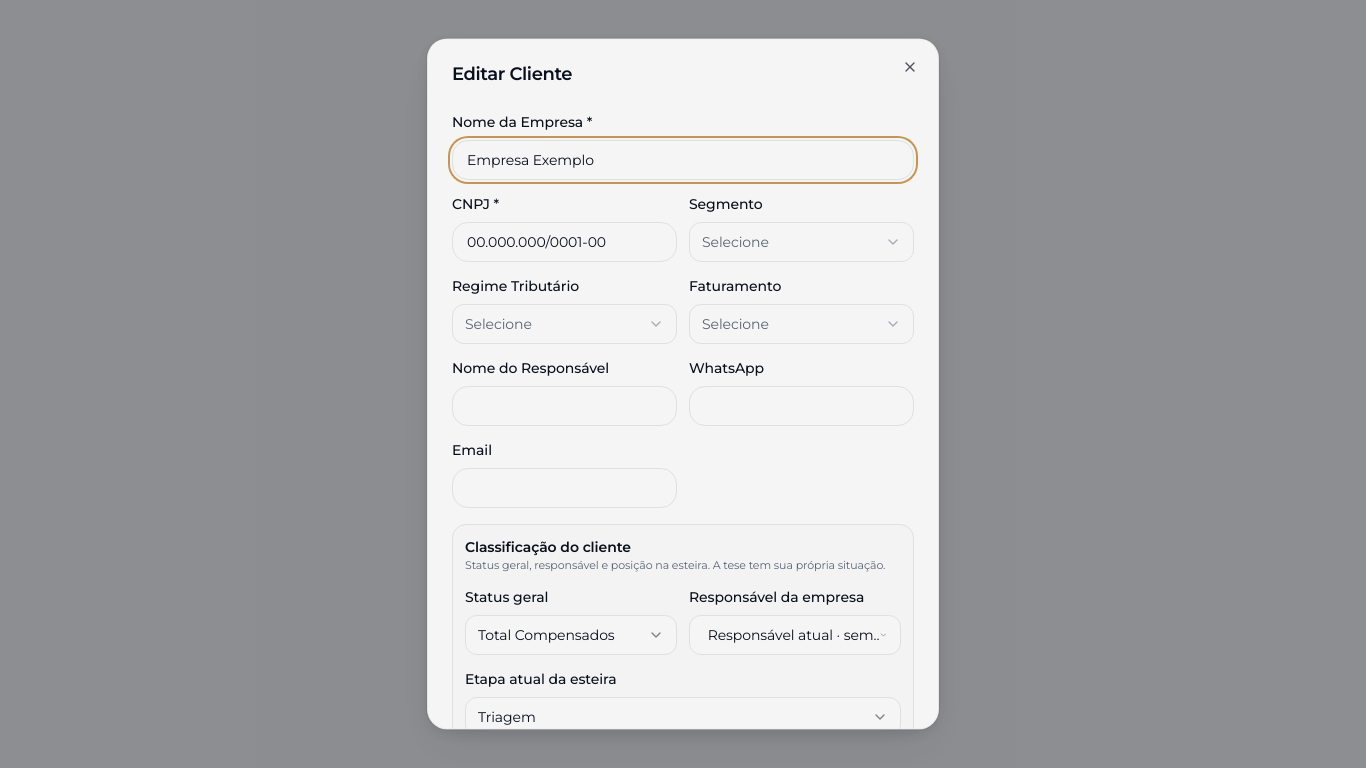
Test case: lista de responsáveis no Editar Cliente › preserva o responsável já gravado que hoje não é elegível
Click the dropdown named "Responsável da empresa": x=795, y=635 [689,615,901,655]
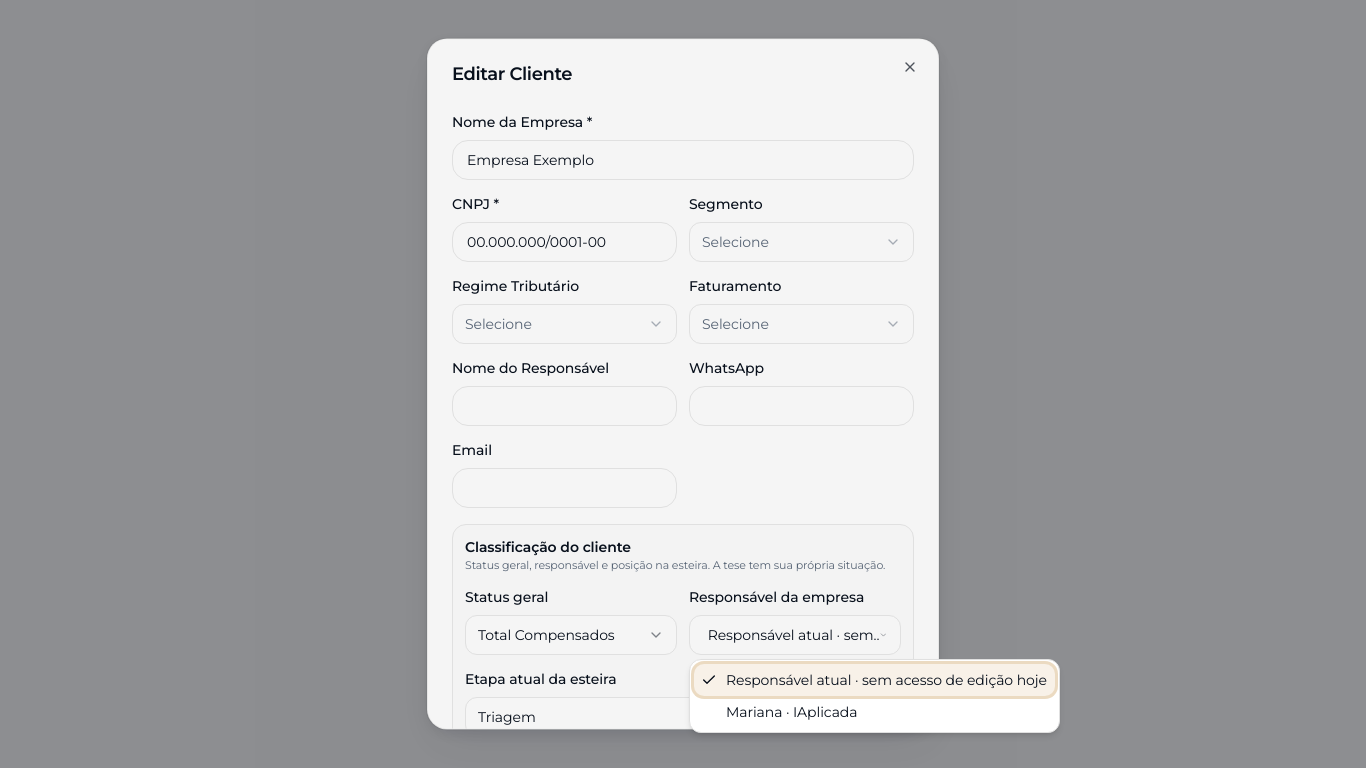
Now the option "Responsável atual · sem acesso de edição hoje" is shown, box [694,664,1055,696]
Now the option "Mariana · IAplicada" is shown, box [726,703,857,721]
